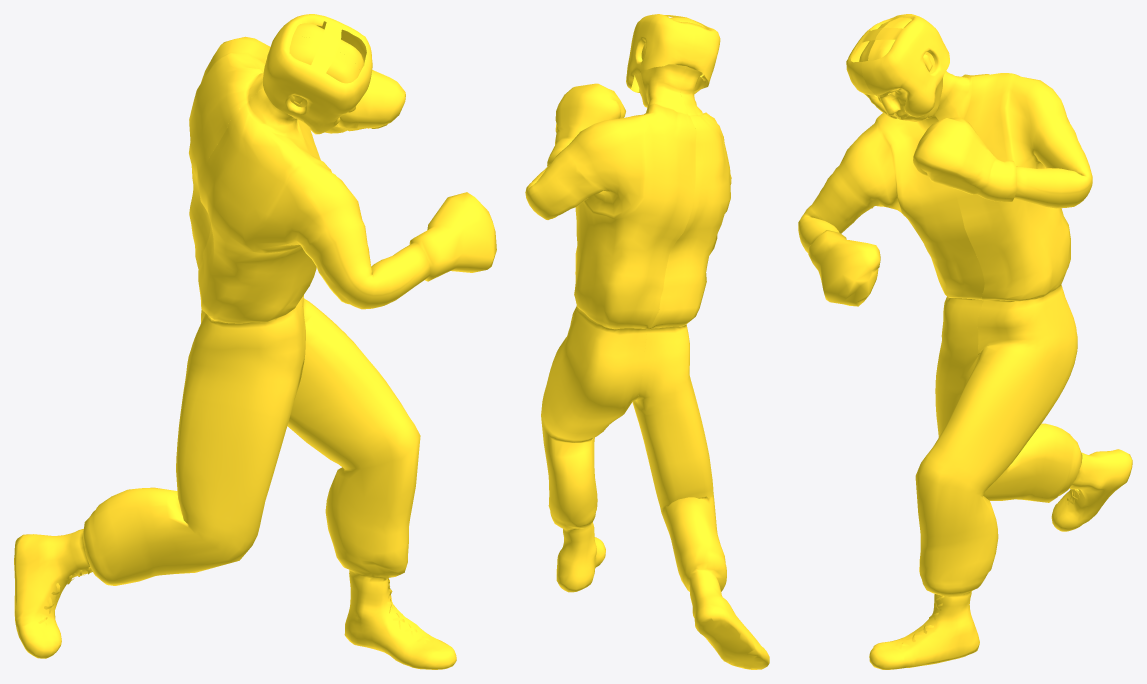
File: Boxer_gold.glb
3 views of the same model, side by side, from view 1: azimuth 30°, elevation 25°; view 2: azimuth 150°, elevation 25°; view 3: azimuth 270°, elevation 25° (orthographic). The views are drawn at different scales.
Parts seen in each view (by area): view 1: copia.002; view 2: copia.002; view 3: copia.002.
Boxes of the visible parts, <box> form: copia.002: <box>14,14,496,669</box>; copia.002: <box>525,14,769,669</box>; copia.002: <box>798,14,1132,669</box>.
Bounding box in the file's own units: 0.9788 × 1.75 × 0.8939.
